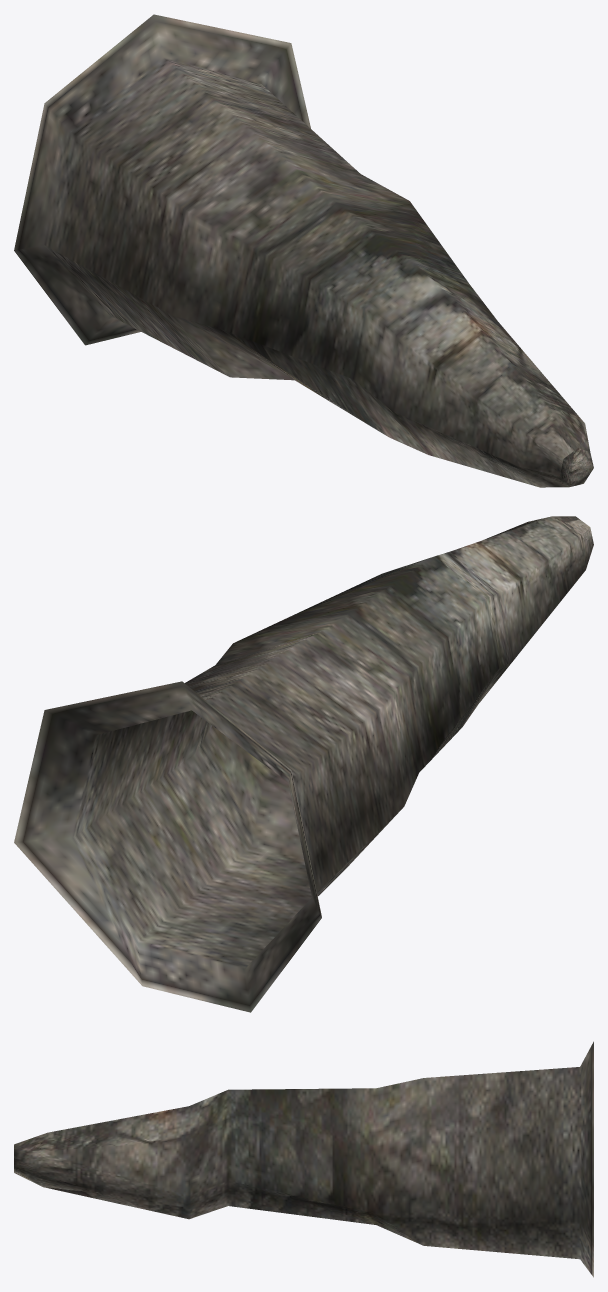
Rendered from tdr_h_stag_melted_b.obj.
3 views of the same model, one above another, from view 1: azimuth 30°, elevation 25°; view 2: azimuth 150°, elevation 25°; view 3: azimuth 270°, elevation 25° (orthographic). The views are drawn at different scales.
Parts seen in each view (by area): view 1: tdr_h_stag_melted_b; view 2: tdr_h_stag_melted_b; view 3: tdr_h_stag_melted_b.
Part boxes in pixels (x1=…): tdr_h_stag_melted_b: x1=14, y1=14, x2=593, y2=487; tdr_h_stag_melted_b: x1=14, y1=516, x2=593, y2=1012; tdr_h_stag_melted_b: x1=14, y1=1041, x2=593, y2=1277.
Bounding box in the file's own units: 364 × 355 × 838.
1 material, 1 textured.
